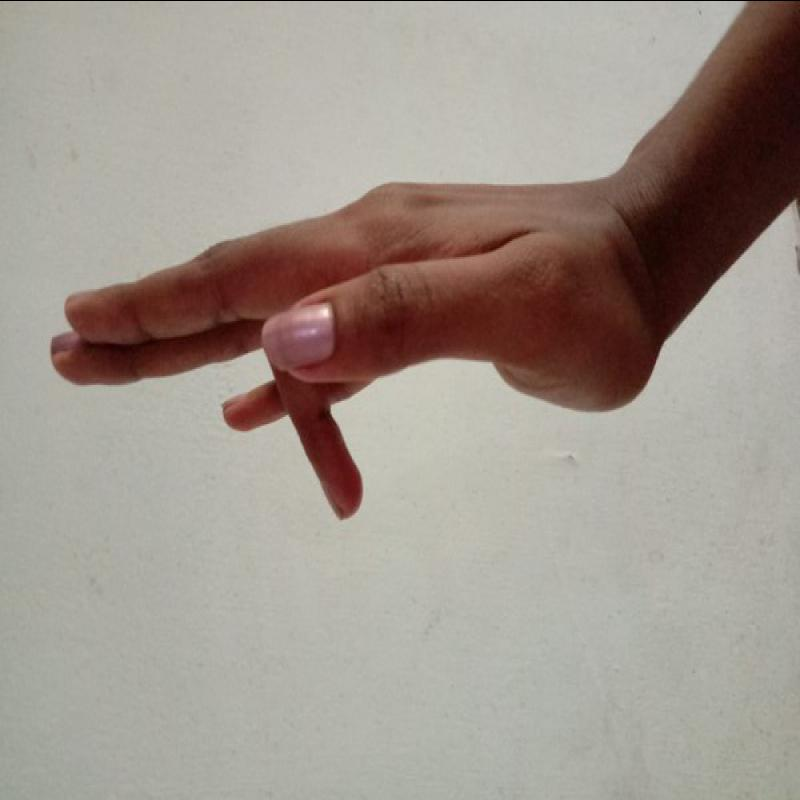Pathaaka: (39, 151, 678, 535)
